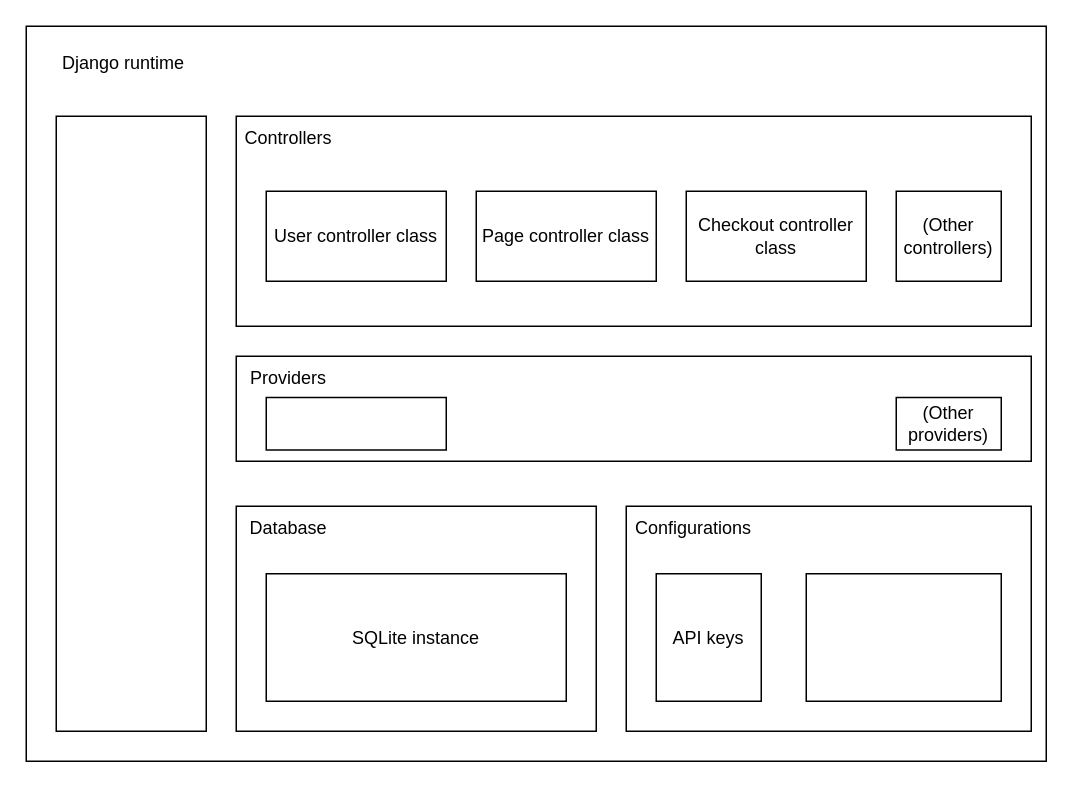
Some shapes in this 1073 by 788 pixel diagram are drawn without their labels. Each missing label, with the centre of its shape:
"Application runtime configurations" belongs at [903,636].
"Secret provider class" belongs at [355,423].
"Static file handler by Django" belongs at [130,423].
